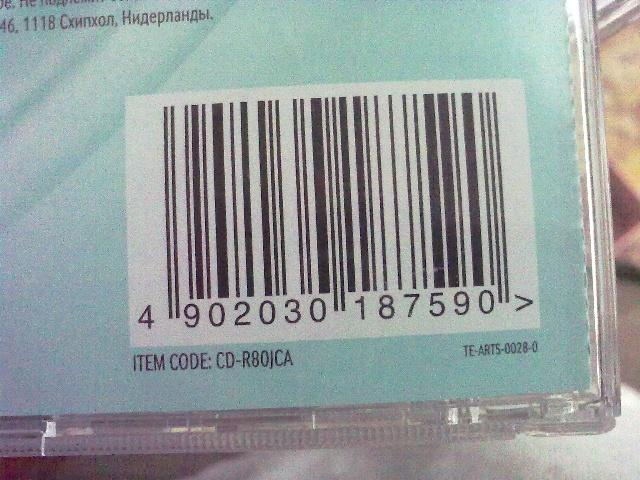Barcode: (134, 93, 514, 337)
